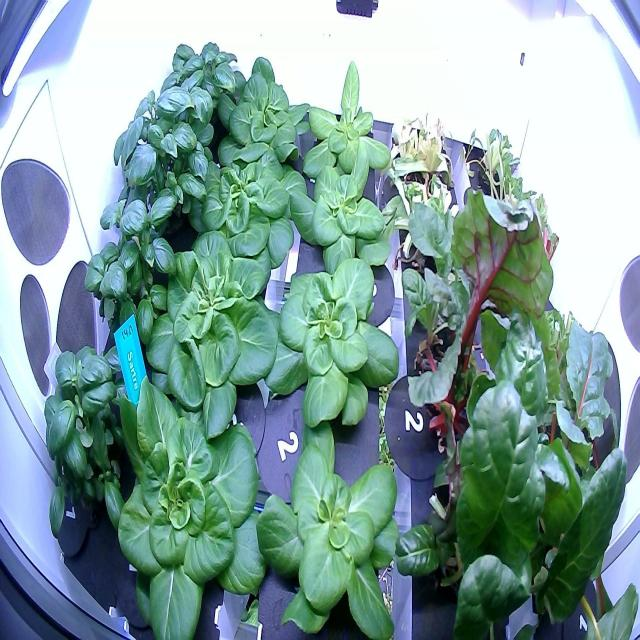young: (108, 366, 267, 639), (250, 418, 428, 640), (133, 222, 284, 444), (259, 244, 415, 436), (281, 127, 409, 287), (176, 135, 310, 278), (200, 34, 325, 185), (297, 51, 395, 206)
